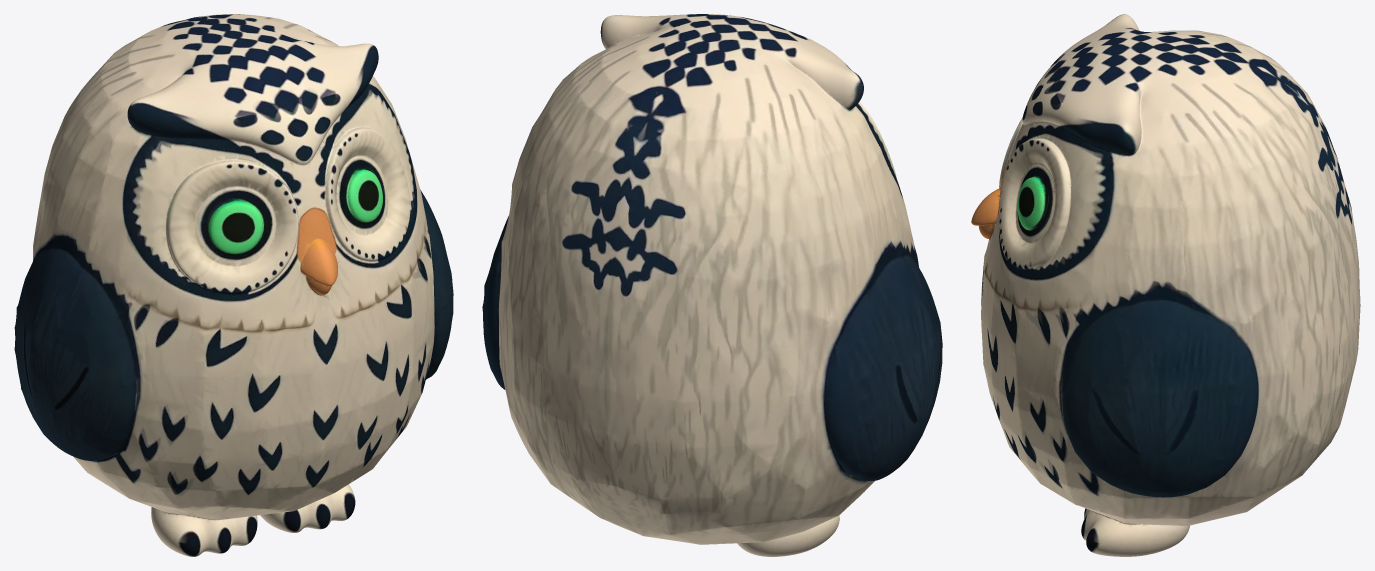
The model's file is owl-soft-allow.glb.
The picture shows the model from 3 angles, left to right: view 1: azimuth 30°, elevation 25°; view 2: azimuth 150°, elevation 25°; view 3: azimuth 270°, elevation 25°; orthographic projection. The views are drawn at different scales.
Parts seen in each view (by area): view 1: mesh_node; view 2: mesh_node; view 3: mesh_node.
Boxes of the visible parts, left/top/right/bottom form: mesh_node: left=14, top=14, right=453, bottom=556; mesh_node: left=482, top=14, right=942, bottom=556; mesh_node: left=971, top=14, right=1360, bottom=556.
Size of the model in its own units: 1.67 by 1.9 by 1.42.
1 material, 1 textured.
